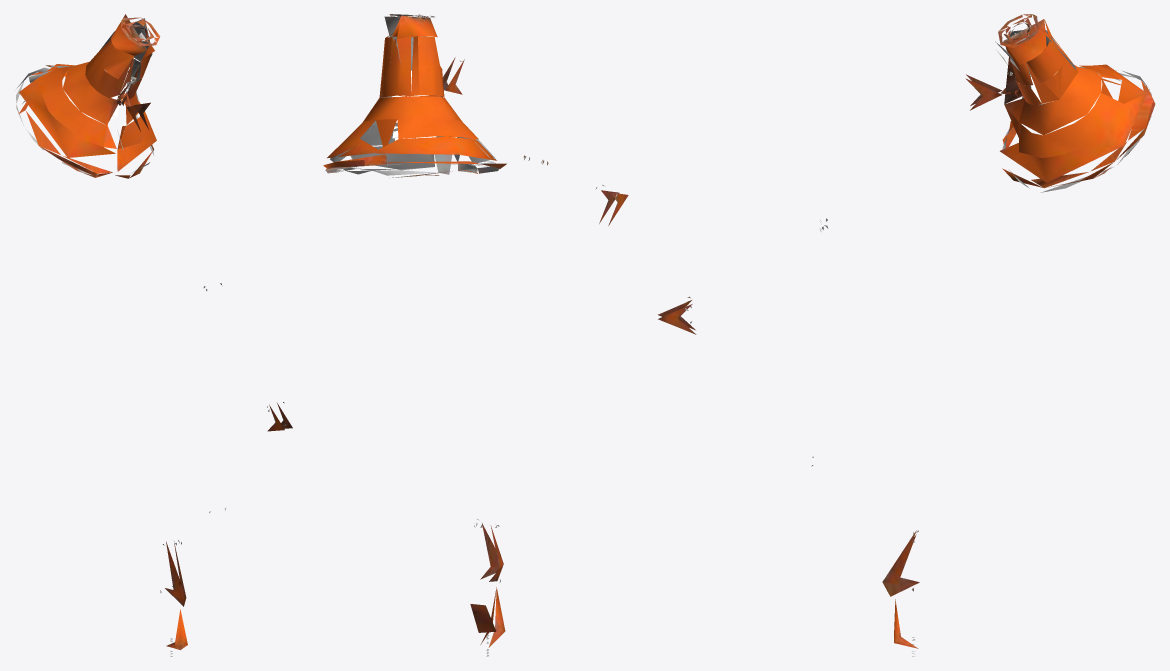
File: desk_lamp.glb
3 views of the same model, side by side, from view 1: azimuth 30°, elevation 25°; view 2: azimuth 150°, elevation 25°; view 3: azimuth 270°, elevation 25° (orthographic). The views are drawn at different scales.
Parts seen in each view (by area): view 1: desk_lamp; view 2: desk_lamp; view 3: desk_lamp.
Boxes of the visible parts, x1,y1,x2,y2 form: desk_lamp: [16, 14, 292, 656]; desk_lamp: [323, 14, 628, 656]; desk_lamp: [658, 14, 1155, 656].
Bounding box in the file's own units: 0.201 × 0.8809 × 0.6157.
Materials: 2 (2 with a texture image).
